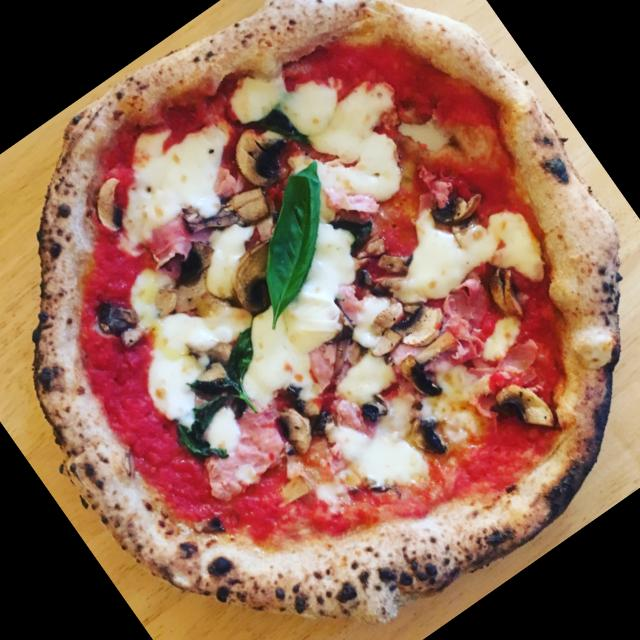mushrooms: (180, 176, 322, 325), (139, 230, 242, 334), (325, 266, 423, 370), (163, 326, 260, 420), (386, 321, 478, 412), (221, 107, 308, 195), (479, 362, 566, 449), (264, 373, 350, 460), (340, 212, 412, 292), (388, 398, 462, 475), (414, 163, 487, 237), (476, 253, 540, 325), (74, 169, 140, 238), (381, 291, 448, 354), (89, 277, 153, 342), (338, 376, 402, 439)
pizza: (31, 0, 625, 626)
